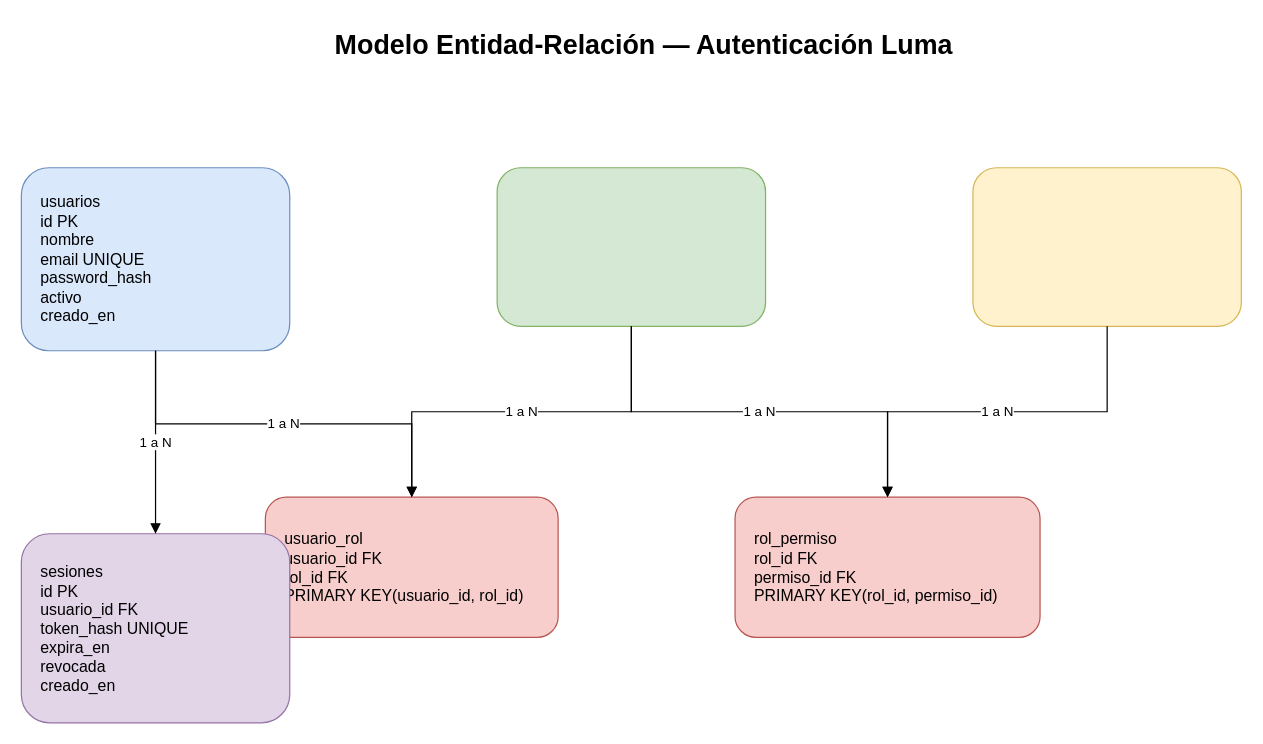
The diagram is 1263 pixels wide and 744 high, and some of its shapes have lost their labels. The centre of each missing label's shape, as x and y in pixels:
"permisos id PK codigo UNIQUE descripcion creado_en" belongs at point 1106,246.
"roles id PK nombre UNIQUE descripcion creado_en" belongs at point 631,246.
